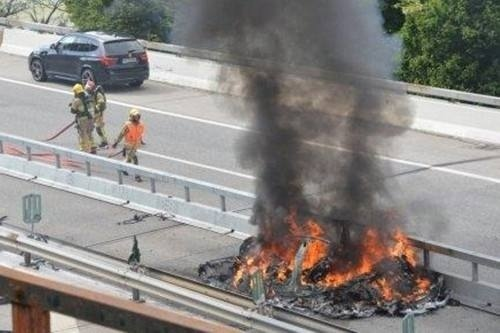fire: (231, 210, 428, 302)
